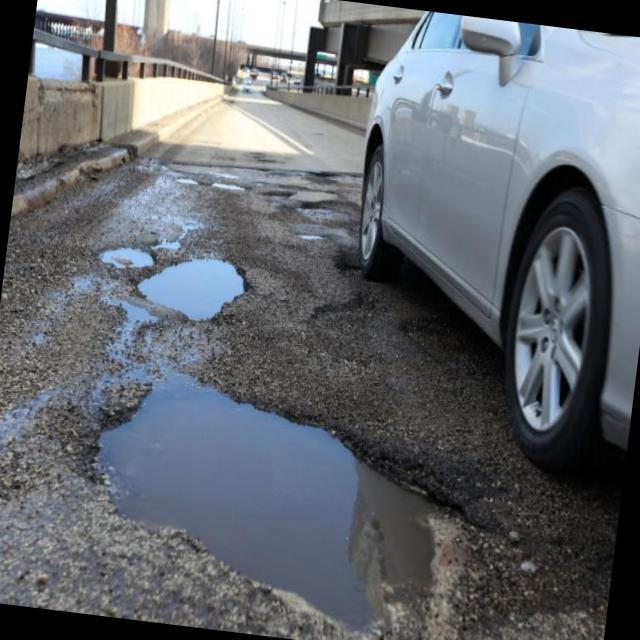Pothole: (100, 373, 433, 629), (138, 258, 243, 319), (101, 248, 152, 268)
